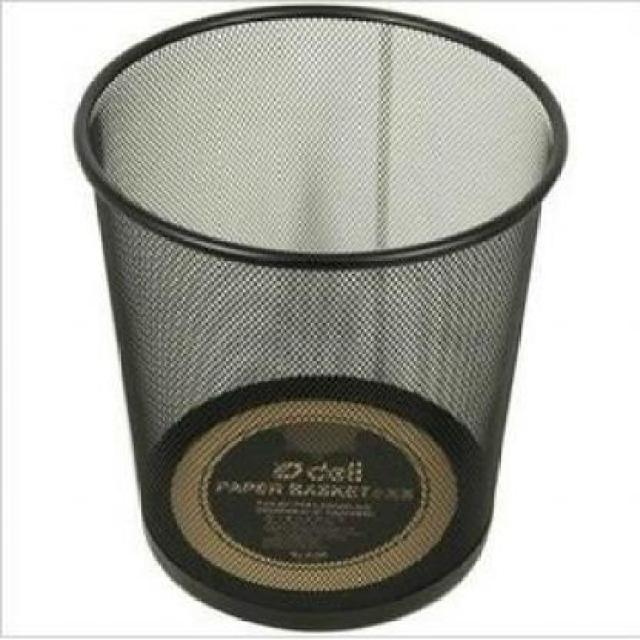dustbin: (71, 4, 572, 636)
